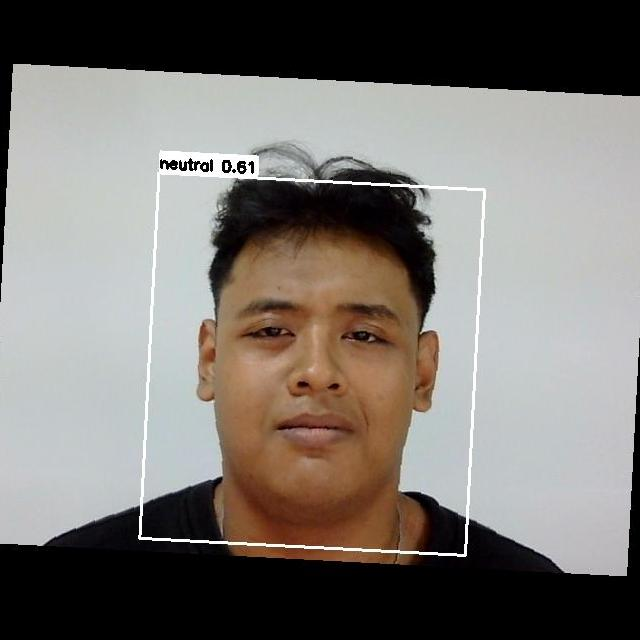Fear: (206, 272, 422, 473)
